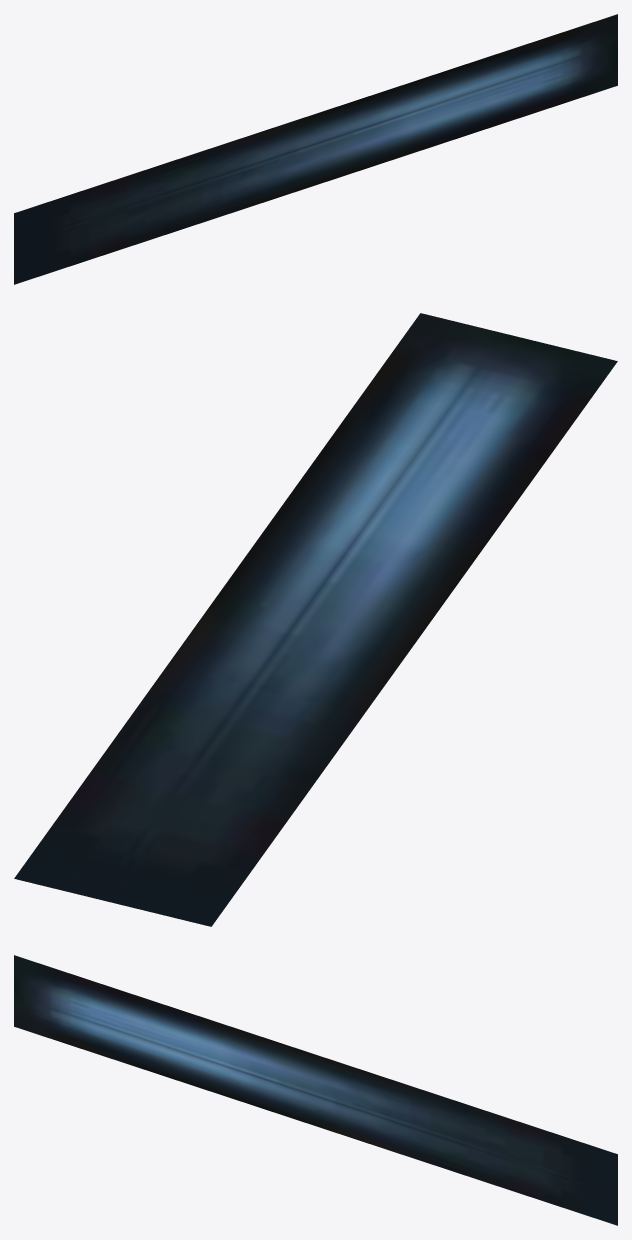
The model's file is Shine01.glb.
3 views of the same model, one above another, from view 1: azimuth 90°, elevation 25°; view 2: azimuth 150°, elevation 25°; view 3: azimuth 270°, elevation 25° (orthographic). The views are drawn at different scales.
Parts seen in each view (by area): view 1: model_Shine01; view 2: model_Shine01; view 3: model_Shine01.
Part boxes in pixels (box(x1,y1,x2,y2)): model_Shine01: box(14, 14, 617, 284); model_Shine01: box(14, 313, 617, 926); model_Shine01: box(14, 955, 617, 1225).
Size of the model in its own units: 0.8044 by 1.04 by 2.87.
1 material, 1 textured.
